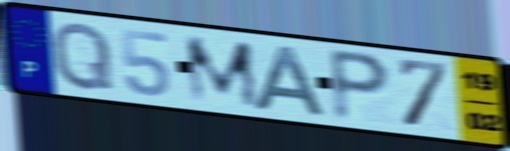5: (119, 26, 172, 98)
7: (396, 56, 452, 130)
A: (251, 42, 330, 120)
M: (182, 35, 264, 110)
P: (326, 45, 394, 125)
Q: (50, 19, 117, 93)
